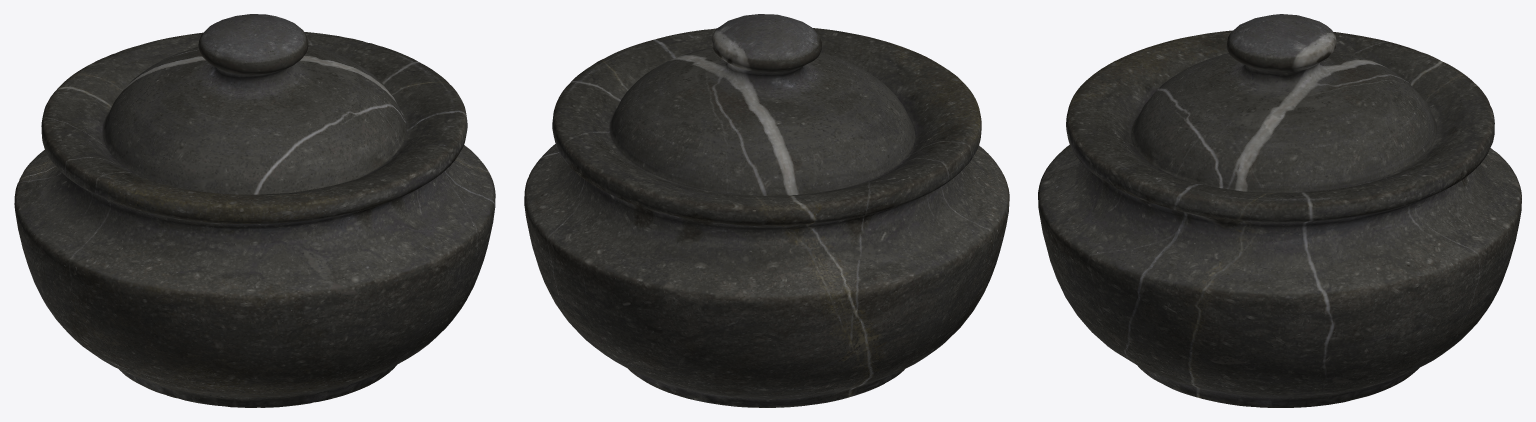
The picture shows the model from 3 angles, left to right: view 1: azimuth 30°, elevation 25°; view 2: azimuth 150°, elevation 25°; view 3: azimuth 270°, elevation 25°; orthographic projection.
Visible parts, largest first — view 1: Aset_container_bowl_S_ugziad2va_LOD0; view 2: Aset_container_bowl_S_ugziad2va_LOD0; view 3: Aset_container_bowl_S_ugziad2va_LOD0.
Boxes of the visible parts, bbox=[...] form: Aset_container_bowl_S_ugziad2va_LOD0: bbox=[14, 14, 495, 407]; Aset_container_bowl_S_ugziad2va_LOD0: bbox=[524, 14, 1009, 407]; Aset_container_bowl_S_ugziad2va_LOD0: bbox=[1038, 14, 1521, 407].
Size of the model in its own units: 0.0809 by 0.0809 by 0.0598.
Materials: 1 (1 with a texture image).
